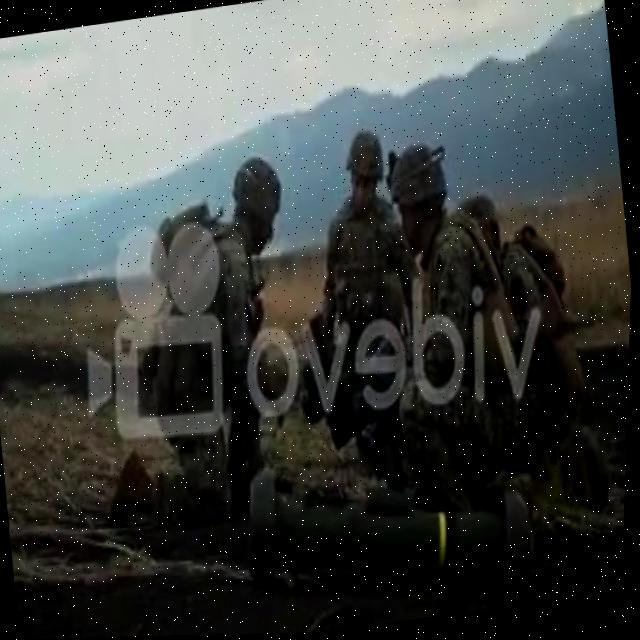rocket: (234, 424, 550, 636)
